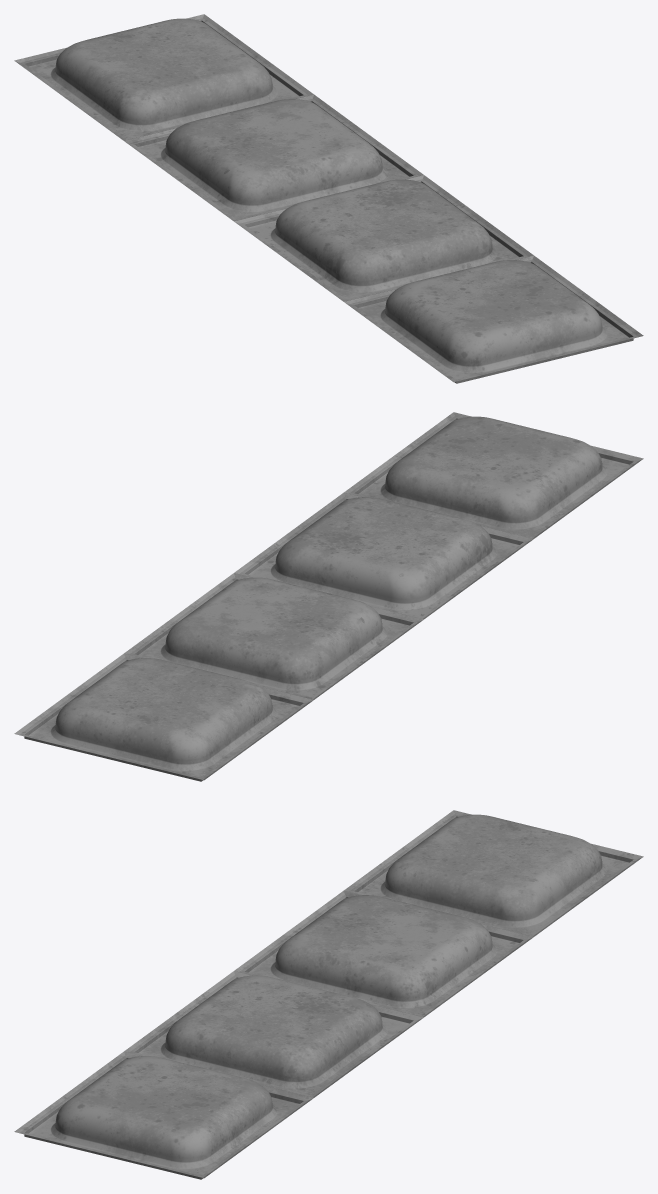
File: SM_Ceiling_04.fbx
3 views of the same model, one above another, from view 1: azimuth 30°, elevation 25°; view 2: azimuth 150°, elevation 25°; view 3: azimuth 330°, elevation 25° (orthographic).
Visible parts, largest first — view 1: SM_Ceiling_04; view 2: SM_Ceiling_04; view 3: SM_Ceiling_04.
Boxes of the visible parts, x1,y1,x2,y2 form: SM_Ceiling_04: (14,14,643,383); SM_Ceiling_04: (14,412,643,781); SM_Ceiling_04: (14,810,643,1179).
Size of the model in its own units: 100 by 14.2 by 400.
